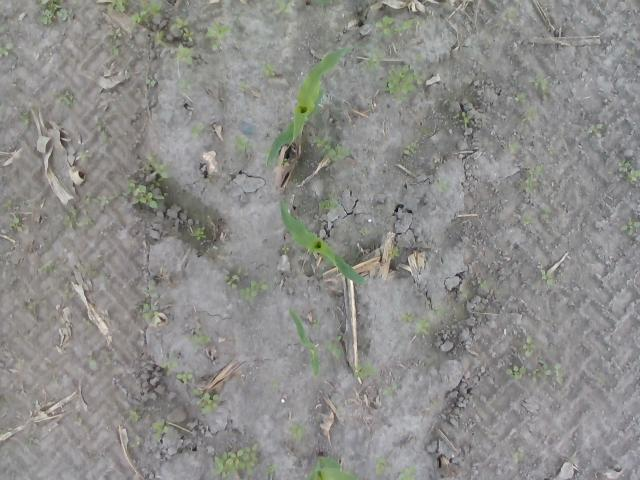Maize: (266, 44, 372, 167), (278, 196, 366, 286), (290, 306, 320, 377), (304, 454, 358, 480)
Weeds: (212, 444, 258, 478), (382, 64, 423, 102), (124, 180, 164, 210), (134, 285, 160, 326), (313, 136, 352, 162), (530, 360, 564, 385), (130, 0, 162, 26), (36, 0, 68, 26), (375, 16, 414, 36), (138, 152, 168, 178), (206, 21, 230, 52), (64, 206, 92, 231), (360, 47, 386, 73), (170, 15, 194, 42), (239, 280, 268, 302), (528, 74, 548, 101), (524, 165, 542, 195), (84, 192, 120, 206), (198, 390, 218, 414), (187, 328, 211, 348), (352, 362, 378, 379), (224, 268, 242, 290), (620, 216, 639, 236), (52, 90, 75, 106), (288, 423, 307, 442), (161, 356, 179, 376), (175, 44, 192, 64), (326, 336, 342, 357), (94, 116, 108, 140), (374, 457, 392, 475), (318, 194, 338, 210), (522, 336, 536, 358), (152, 419, 168, 438), (414, 317, 430, 336), (233, 134, 252, 150), (38, 260, 58, 274), (10, 216, 27, 232), (399, 466, 418, 480), (504, 366, 526, 378), (107, 0, 127, 13), (276, 0, 294, 14), (458, 112, 473, 128), (588, 123, 604, 138), (80, 264, 100, 276), (522, 108, 539, 122), (260, 64, 276, 78), (626, 168, 640, 184), (177, 371, 194, 384), (541, 268, 553, 286), (403, 141, 418, 155), (179, 77, 193, 92), (191, 226, 206, 240), (154, 30, 166, 47), (85, 350, 96, 368), (436, 179, 450, 193), (0, 41, 11, 58), (617, 158, 630, 172), (106, 41, 118, 56), (382, 384, 398, 395), (108, 28, 122, 40), (190, 122, 202, 136), (521, 215, 536, 226), (429, 306, 445, 316), (514, 446, 524, 462), (401, 311, 413, 324), (514, 92, 528, 103), (507, 9, 517, 24), (275, 158, 290, 168), (128, 410, 140, 422), (62, 280, 70, 298), (229, 334, 241, 346), (541, 206, 552, 219), (388, 245, 399, 258), (20, 112, 30, 125), (509, 141, 520, 152), (458, 285, 468, 297), (268, 378, 278, 390), (412, 54, 426, 62), (78, 151, 88, 162), (266, 465, 278, 474), (312, 316, 321, 328), (260, 144, 270, 154), (477, 279, 488, 288), (192, 388, 204, 396), (145, 78, 158, 85), (416, 18, 426, 27), (238, 81, 247, 91), (16, 358, 26, 367), (359, 229, 371, 236), (28, 301, 37, 310), (2, 198, 12, 206), (282, 244, 290, 254), (132, 436, 140, 446), (26, 198, 35, 206), (74, 418, 82, 426), (546, 146, 554, 154), (206, 175, 212, 182)
